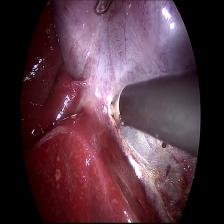Grasper: (92, 0, 116, 21)
Hook: (93, 86, 130, 140)
